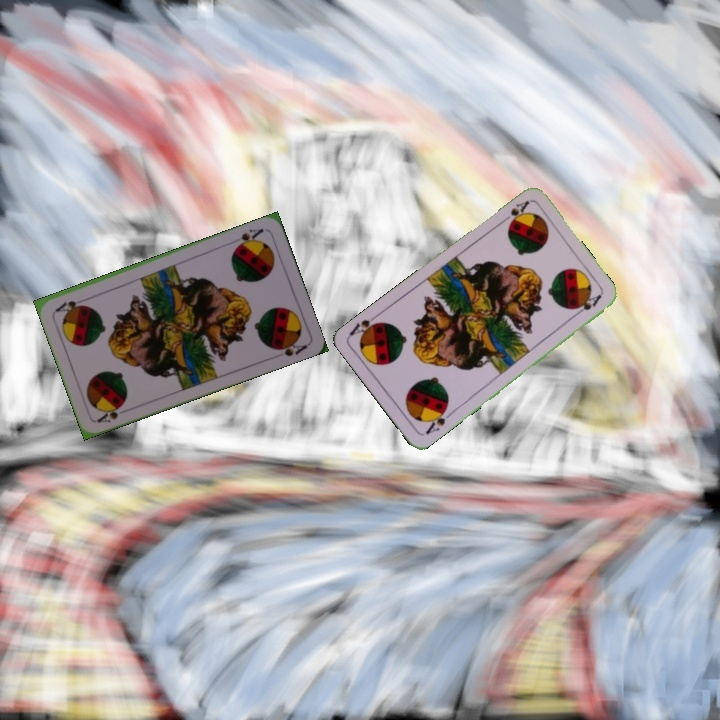SA: (497, 196, 532, 230), (421, 403, 455, 437), (93, 400, 132, 425), (231, 224, 266, 251)
